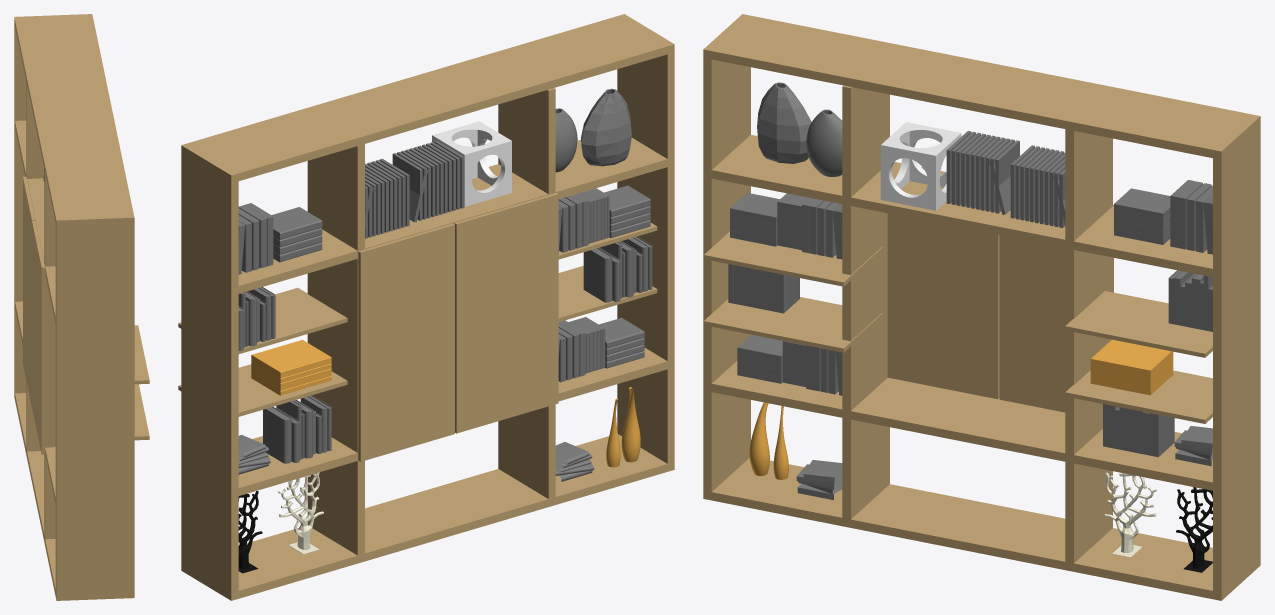
Rendered from AIO Shelf.FBX.
3 renders of one model, left to right at view 1: azimuth 30°, elevation 25°; view 2: azimuth 150°, elevation 25°; view 3: azimuth 270°, elevation 25°, orthographic. The views are drawn at different scales.
Parts seen in each view (by area): view 1: Rectangle48, Rectangle54, Rectangle55; view 2: Rectangle48, Box01 (×2), books_obj_58, Rectangle12, Rectangle52, Rectangle55, Circle230, Box402, books_obj_101, books_obj_11, books_obj_70, books_obj_47 (+8 smaller); view 3: Rectangle48, Box01 (×2), Rectangle12, Rectangle55, Rectangle52, Rectangle54, books_obj_58, Circle200, Box402, Box03, books_obj_46, books_obj_70 (+8 smaller).
Boxes of the visible parts, <box> form: Rectangle48: <box>14,14,134,600</box>; Rectangle54: <box>134,325,149,384</box>; Rectangle55: <box>134,384,149,440</box>; Rectangle48: <box>181,14,674,600</box>; Box01 (×2): <box>555,88,631,172</box>; books_obj_58: <box>251,340,331,395</box>; Rectangle12: <box>178,287,347,353</box>; Rectangle52: <box>178,364,347,416</box>; Rectangle55: <box>558,266,657,321</box>; Circle230: <box>464,140,511,206</box>; Box402: <box>278,472,323,549</box>; books_obj_101: <box>583,248,612,302</box>; books_obj_11: <box>263,406,291,463</box>; books_obj_70: <box>578,188,609,243</box>; books_obj_47: <box>568,317,605,373</box>; Rectangle48: <box>703,14,1260,600</box>; Box01 (×2): <box>757,82,842,176</box>; Rectangle12: <box>1065,291,1212,357</box>; Rectangle55: <box>704,297,882,352</box>; Rectangle52: <box>1065,370,1212,423</box>; Rectangle54: <box>703,231,882,286</box>; books_obj_58: <box>1090,339,1173,395</box>; Circle200: <box>880,143,935,210</box>; Box402: <box>1104,472,1156,552</box>; Box03: <box>1176,487,1212,568</box>; books_obj_46: <box>1114,188,1170,221</box>; books_obj_70: <box>777,193,809,250</box>.
Bounding box in the file's own units: 57.61 × 84.38 × 94.82.
